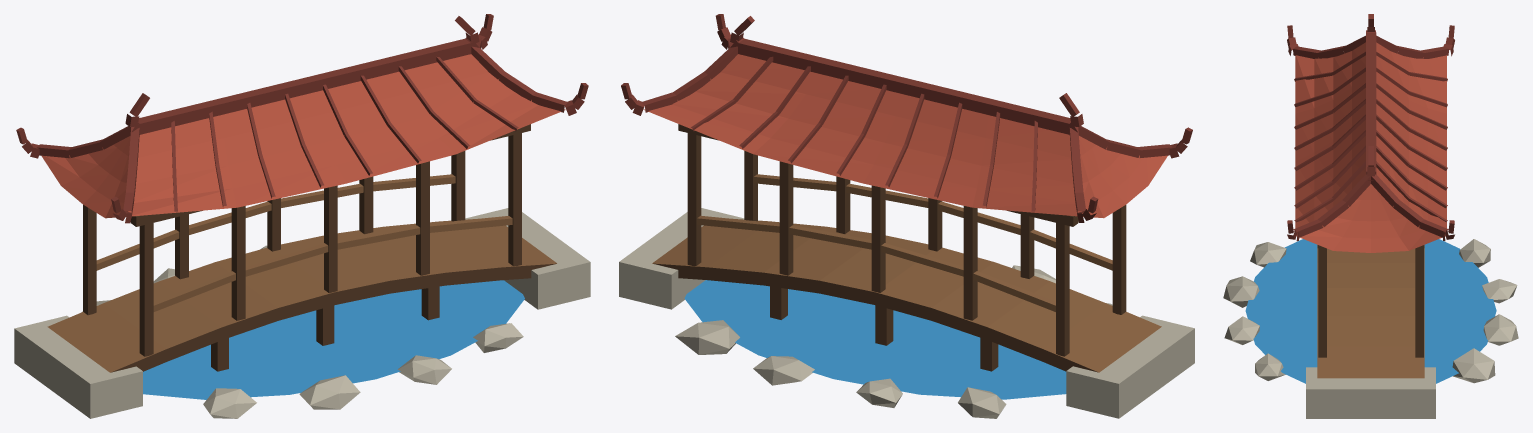
File: viet_bridge_tiled.glb
3 renders of one model, left to right at view 1: azimuth 30°, elevation 25°; view 2: azimuth 150°, elevation 25°; view 3: azimuth 270°, elevation 25°, orthographic. The views are drawn at different scales.
Parts seen in each view (by area): view 1: viet_bridge_tiled; view 2: viet_bridge_tiled; view 3: viet_bridge_tiled.
Part boxes in pixels (x1,y1,x2,y2): viet_bridge_tiled: (14,14,590,418); viet_bridge_tiled: (619,14,1194,418); viet_bridge_tiled: (1223,14,1518,418).
Size of the model in its own units: 1 by 0.5425 by 0.5985.
